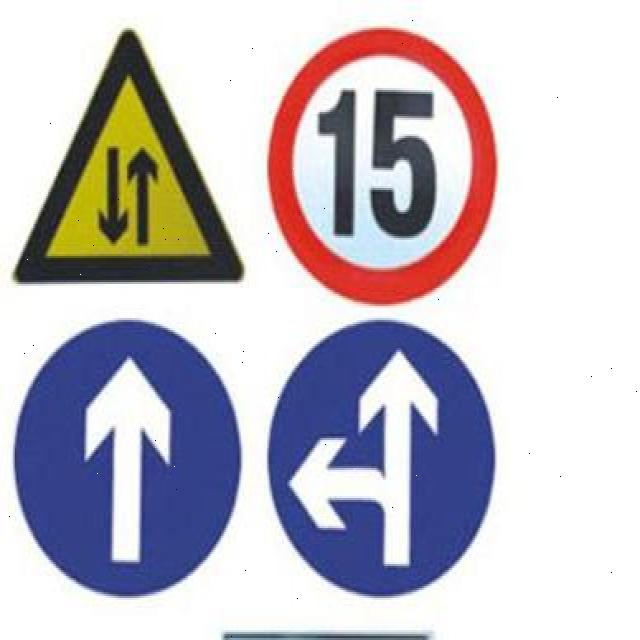speed limit 20: (267, 28, 499, 305)
